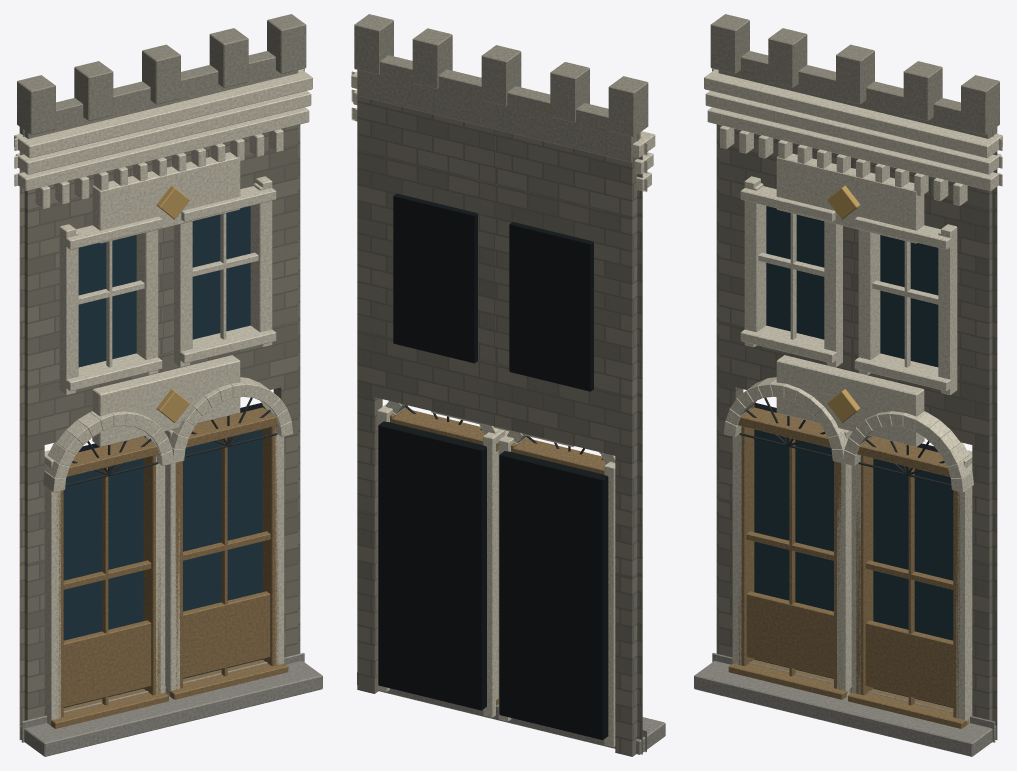
The model's file is CLSTGA21_lod1.glb.
3 views of the same model, side by side, from view 1: azimuth 30°, elevation 25°; view 2: azimuth 150°, elevation 25°; view 3: azimuth 330°, elevation 25° (orthographic).
Visible parts, largest first — view 1: CLSTGA21_FRONT_LOD1; view 2: CLSTGA21_FRONT_LOD1; view 3: CLSTGA21_FRONT_LOD1.
Part boxes in pixels (x1,y1,x2,y2): CLSTGA21_FRONT_LOD1: [14, 14, 322, 756]; CLSTGA21_FRONT_LOD1: [351, 14, 665, 756]; CLSTGA21_FRONT_LOD1: [694, 14, 1002, 756].
Size of the model in its own units: 3.44 by 7.4 by 0.68.
10 materials, 7 textured.
